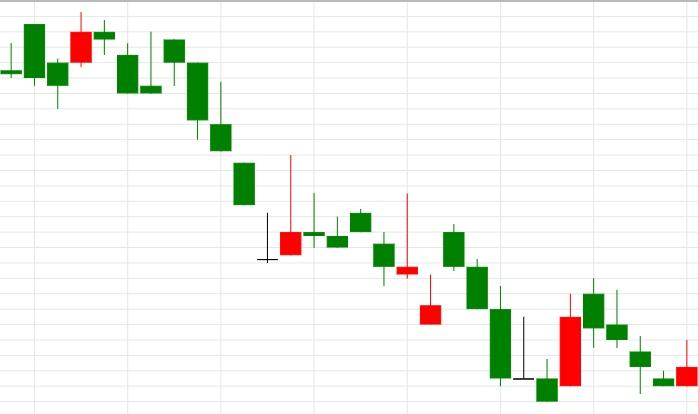three_black_crows_fall: (116, 31, 232, 153)
